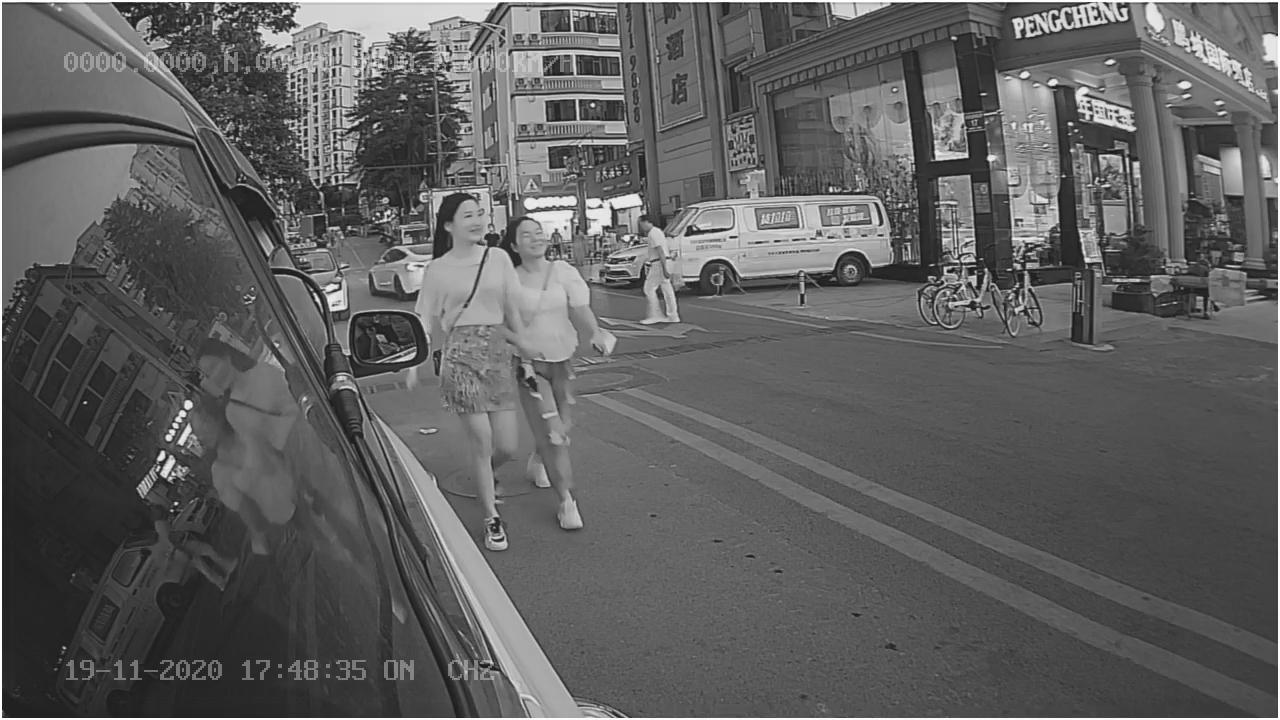person: (424, 196, 530, 469)
